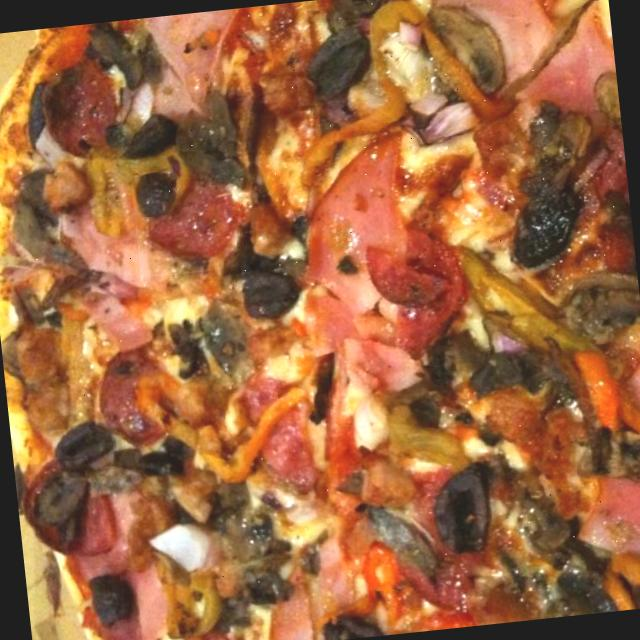Olive: (421, 459, 515, 552), (290, 16, 379, 105), (24, 454, 100, 544), (113, 428, 197, 498), (456, 348, 538, 409), (224, 557, 299, 617), (118, 105, 182, 171), (41, 422, 121, 474), (232, 265, 302, 320), (80, 564, 129, 637), (306, 610, 402, 640), (133, 174, 179, 216)
mushrooms: (409, 0, 531, 101), (190, 286, 276, 421), (170, 92, 264, 206), (0, 164, 88, 284), (364, 494, 450, 590), (552, 261, 640, 347), (572, 411, 640, 486)
pepperoni: (226, 368, 340, 508), (360, 236, 476, 360), (130, 164, 246, 278), (89, 342, 194, 456), (43, 59, 140, 175), (403, 547, 480, 612)
pizza: (0, 0, 640, 640)
